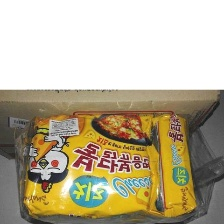snack: (17, 105, 203, 222)
